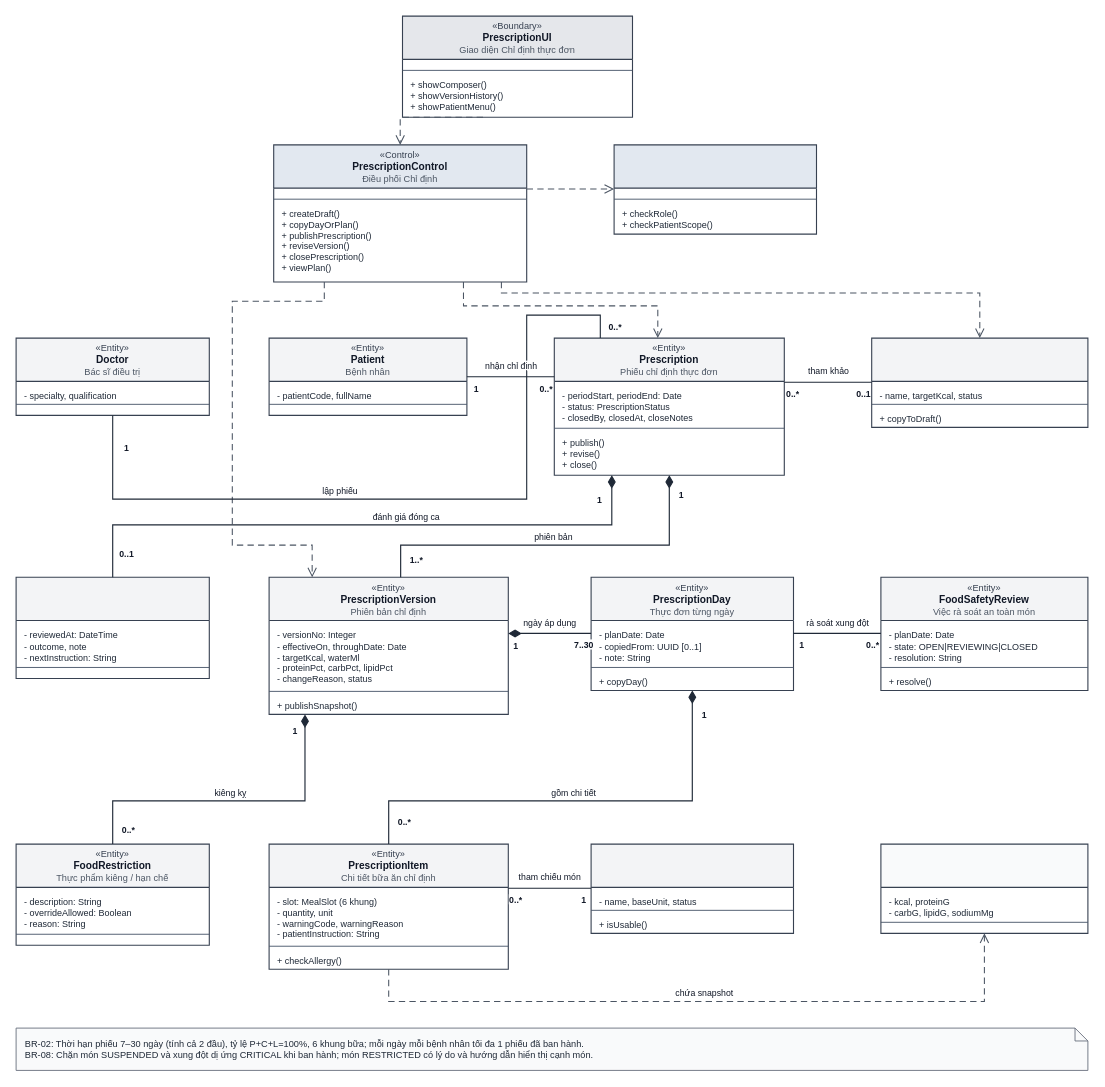
Some shapes in this 1105 by 1087 pixel diagram are drawn without their labels. The shapes that lost their labels are listed below. From the top down, each one's box as (x1, y1, x2, y2) in pixels, then its label:
(613, 144, 817, 234): «Control» AccessControl Kiểm soát quyền
(871, 337, 1088, 427): «Entity» MealPlanTemplate Thực đơn mẫu
(15, 576, 209, 679): «Entity» TreatmentReview Đánh giá cuối đợt
(590, 843, 794, 933): «Entity» FoodVersion Phiên bản món ăn
(880, 843, 1088, 933): «ValueObject» NutritionSnapshot Giá trị dinh dưỡng lúc kê
